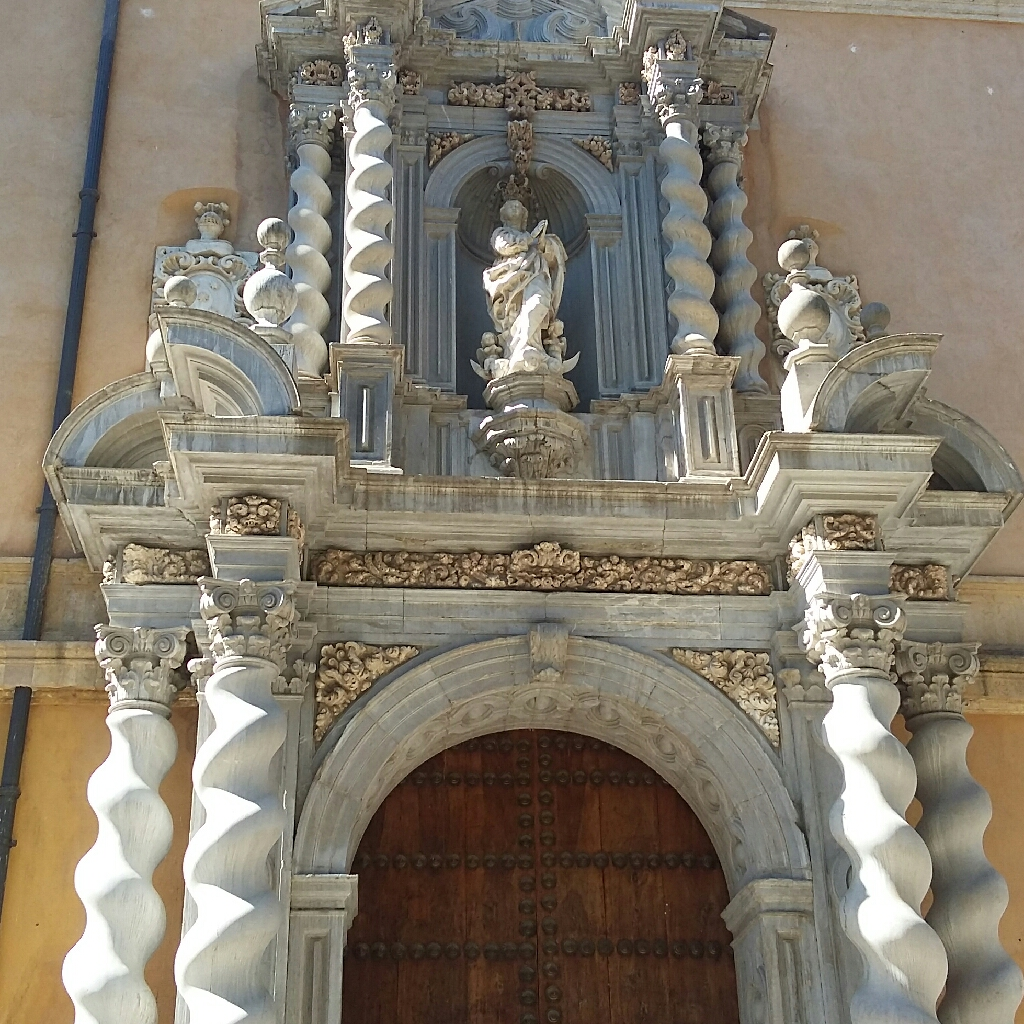arco-medio-punto: (329, 666, 802, 958), (442, 146, 608, 244)
columna-salomonica: (819, 664, 950, 1024), (171, 653, 291, 1024), (61, 696, 185, 1024), (903, 699, 1022, 1024), (656, 112, 719, 354), (706, 153, 767, 392), (340, 95, 396, 344), (286, 139, 337, 382)
